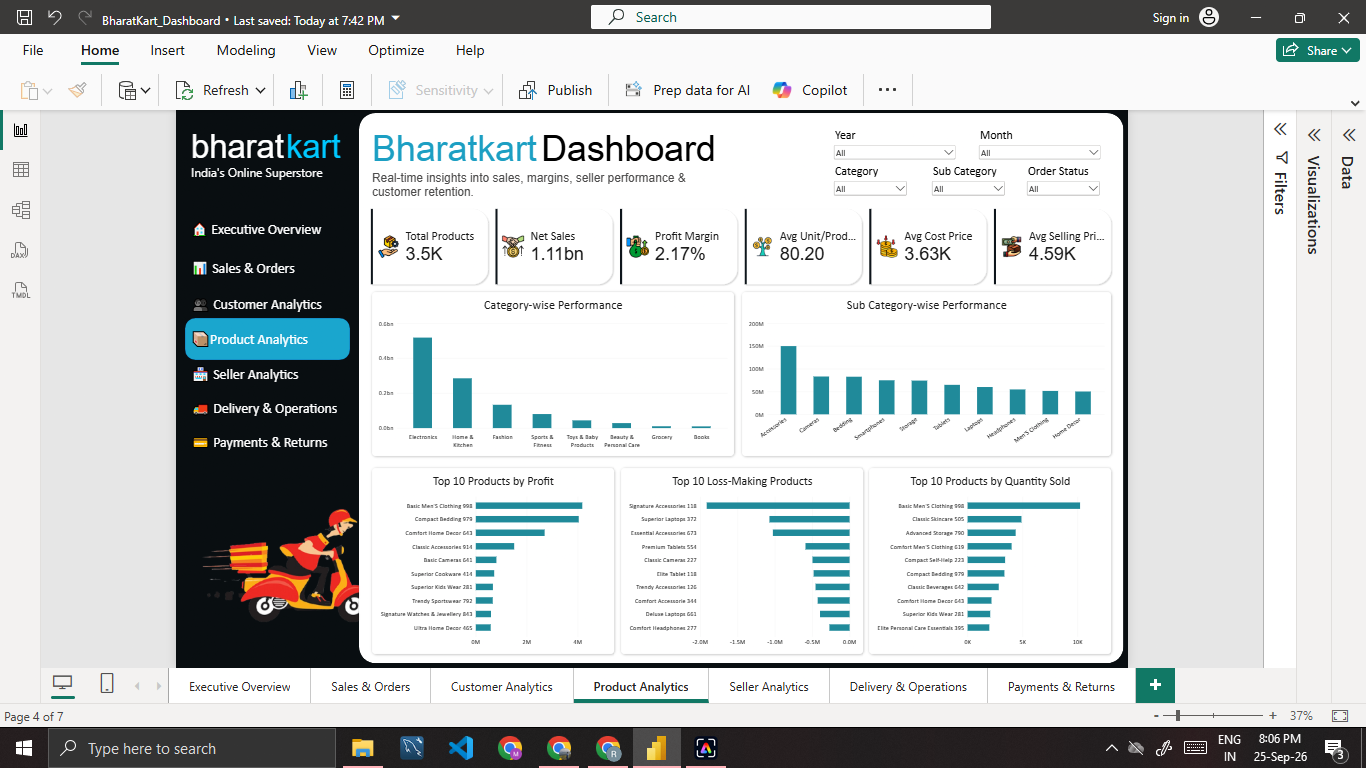

This screenshot's page, from the dashboard's own definition file:
{"tool":"powerbi","page":{"name":"Product Analytics","canvas":[2560,1500],"ordinal":3},"visuals":[{"type":"shape","box":[493.1,8.9,2055.1,1479.3],"z":0},{"type":"textbox","box":[41.3,47.2,286.4,103.3],"z":1000},{"type":"textbox","box":[295.3,47.2,171.3,103.3],"z":2000},{"type":"textbox","box":[41.3,144.7,386.8,53.1],"z":3000},{"type":"image","box":[0,986.2,564,475.4],"z":4000},{"type":"textbox","box":[981.2,34.9,489.2,129],"z":5000},{"type":"textbox","box":[526.9,34.9,454.3,129],"z":6000},{"type":"textbox","box":[526.9,164,865.6,80.6],"z":7000},{"type":"slicer","fields":{"Values":["Calendar.Year"]},"box":[1762.8,47.2,336.6,118.1],"z":8000},{"type":"slicer","fields":{"Values":["products.category"]},"box":[1762.8,144.7,206.5,118.4],"z":9000},{"type":"slicer","fields":{"Values":["Calendar.Month"]},"box":[2152.6,47.2,336.6,118.1],"z":10000},{"type":"slicer","fields":{"Values":["products.sub_category"]},"box":[2025.6,144.7,206.5,118.4],"z":11000},{"type":"slicer","fields":{"Values":["orders.order_status"]},"box":[2282.3,145.2,206.5,118.4],"z":12000},{"type":"cardVisual","fields":{"Data":["DAX.Total Products","DAX.Net Sales","DAX.Profit Margin","DAX.Avg Units per Product","DAX.Average Cost Price","DAX.Average Selling Price"]},"box":[502.7,244.6,2034.4,245.1],"z":13000},{"type":"shape","box":[24.2,559.1,443.5,112.9],"z":14000},{"type":"textbox","box":[40.3,293,366.1,65],"z":15000},{"type":"textbox","box":[40.3,397.8,365.6,53.8],"z":16000},{"type":"textbox","box":[40.3,682.8,366.1,65],"z":17000},{"type":"textbox","box":[40.3,494.6,365.6,53.8],"z":18000},{"type":"textbox","box":[40.3,588.7,365.6,51.1],"z":19000},{"type":"textbox","box":[40.3,774.2,425.2,65],"z":20000},{"type":"textbox","box":[40.3,865.6,425.2,65],"z":21000},{"type":"clusteredBarChart","title":"Top 10 Products by Profit","fields":{"Category":["products.product_name"],"Y":["DAX.Net Profit"]},"box":[526.9,962.4,650.5,500],"z":22000},{"type":"clusteredColumnChart","title":"Category-wise Performance","fields":{"Category":["products.category"],"Y":["DAX.Net Sales"]},"box":[526.9,489.2,973.1,440.9],"z":23000},{"type":"clusteredColumnChart","title":"Sub Category-wise Performance","fields":{"Category":["products.sub_category"],"Y":["DAX.Net Sales"]},"box":[1521.5,489.2,991.9,440.9],"z":24000},{"type":"barChart","title":"Top 10 Loss-Making Products","fields":{"Category":["products.product_name"],"Y":["DAX.Net Profit"]},"box":[1196.2,962.4,650.5,500],"z":25000},{"type":"barChart","title":"Top 10 Products by Quantity Sold","fields":{"Category":["products.product_name"],"Y":["DAX.Total Quantity Sold"]},"box":[1862.9,962.4,650.5,500],"z":26000}]}

Visuals, with their boxes on the page's 2560x1500 design canvas (x1, y1, x2, y2). These are canvas units, not pixel positions in the 1366x768 screenshot, which may show the page scaled, cropped or inside an application window:
shape: <region>493, 9, 2548, 1488</region>
textbox: <region>41, 47, 328, 150</region>
textbox: <region>295, 47, 467, 150</region>
textbox: <region>41, 145, 428, 198</region>
image: <region>0, 986, 564, 1462</region>
textbox: <region>981, 35, 1470, 164</region>
textbox: <region>527, 35, 981, 164</region>
textbox: <region>527, 164, 1392, 245</region>
slicer - Calendar.Year: <region>1763, 47, 2099, 165</region>
slicer - products.category: <region>1763, 145, 1969, 263</region>
slicer - Calendar.Month: <region>2153, 47, 2489, 165</region>
slicer - products.sub_category: <region>2026, 145, 2232, 263</region>
slicer - orders.order_status: <region>2282, 145, 2489, 264</region>
cardVisual - DAX.Total Products x DAX.Net Sales: <region>503, 245, 2537, 490</region>
shape: <region>24, 559, 468, 672</region>
textbox: <region>40, 293, 406, 358</region>
textbox: <region>40, 398, 406, 452</region>
textbox: <region>40, 683, 406, 748</region>
textbox: <region>40, 495, 406, 548</region>
textbox: <region>40, 589, 406, 640</region>
textbox: <region>40, 774, 466, 839</region>
textbox: <region>40, 866, 466, 931</region>
"Top 10 Products by Profit" clusteredBarChart: <region>527, 962, 1177, 1462</region>
"Category-wise Performance" clusteredColumnChart: <region>527, 489, 1500, 930</region>
"Sub Category-wise Performance" clusteredColumnChart: <region>1522, 489, 2513, 930</region>
"Top 10 Loss-Making Products" barChart: <region>1196, 962, 1847, 1462</region>
"Top 10 Products by Quantity Sold" barChart: <region>1863, 962, 2513, 1462</region>
